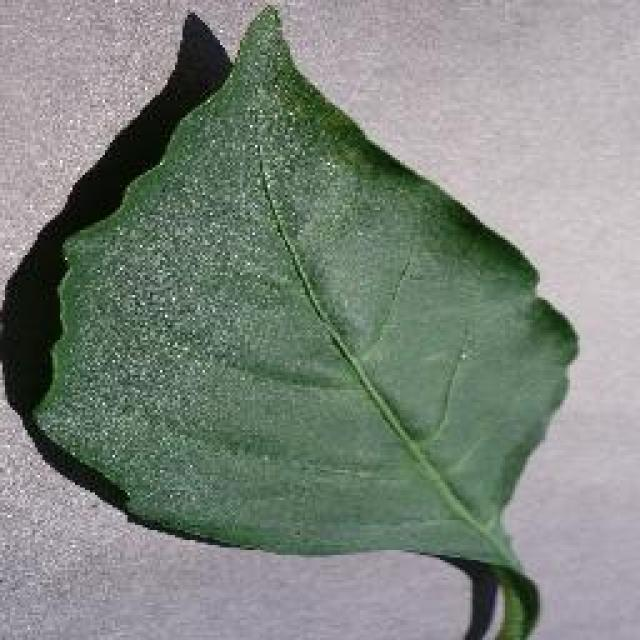Leaf: (31, 9, 594, 627)
